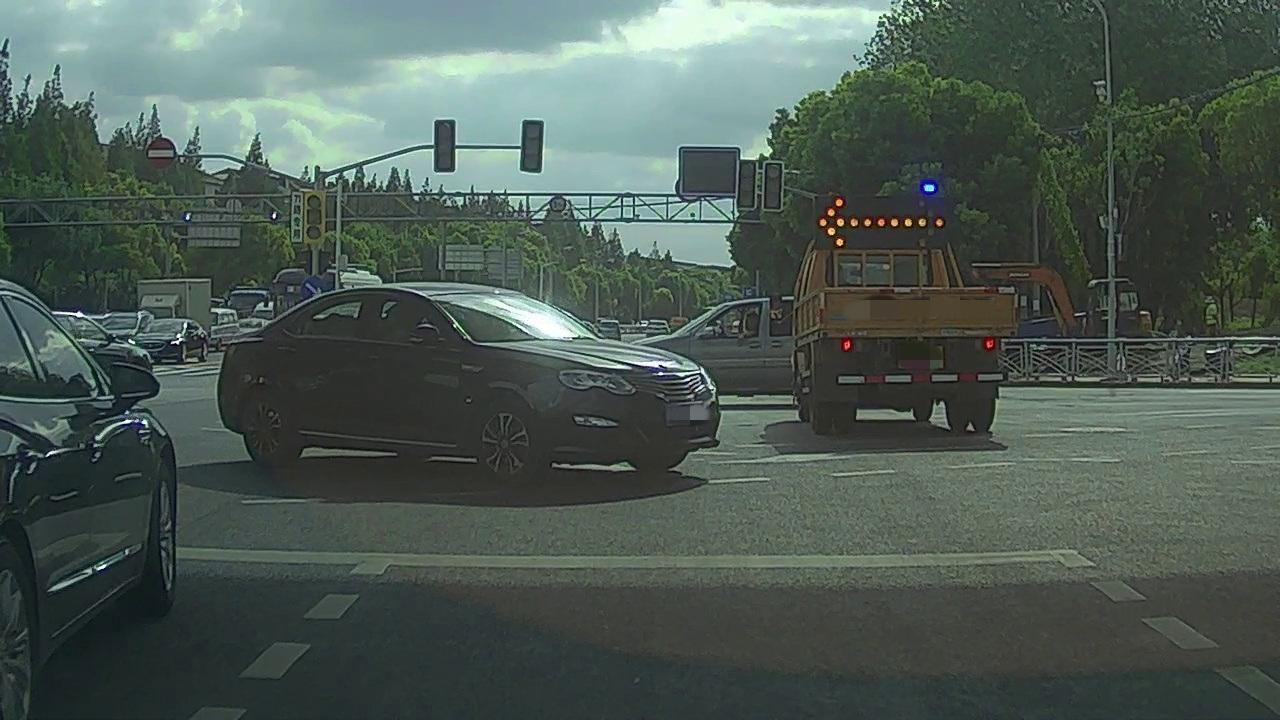traffic_light: (521, 121, 542, 172), (435, 121, 454, 172), (737, 161, 755, 208), (764, 163, 781, 209)
